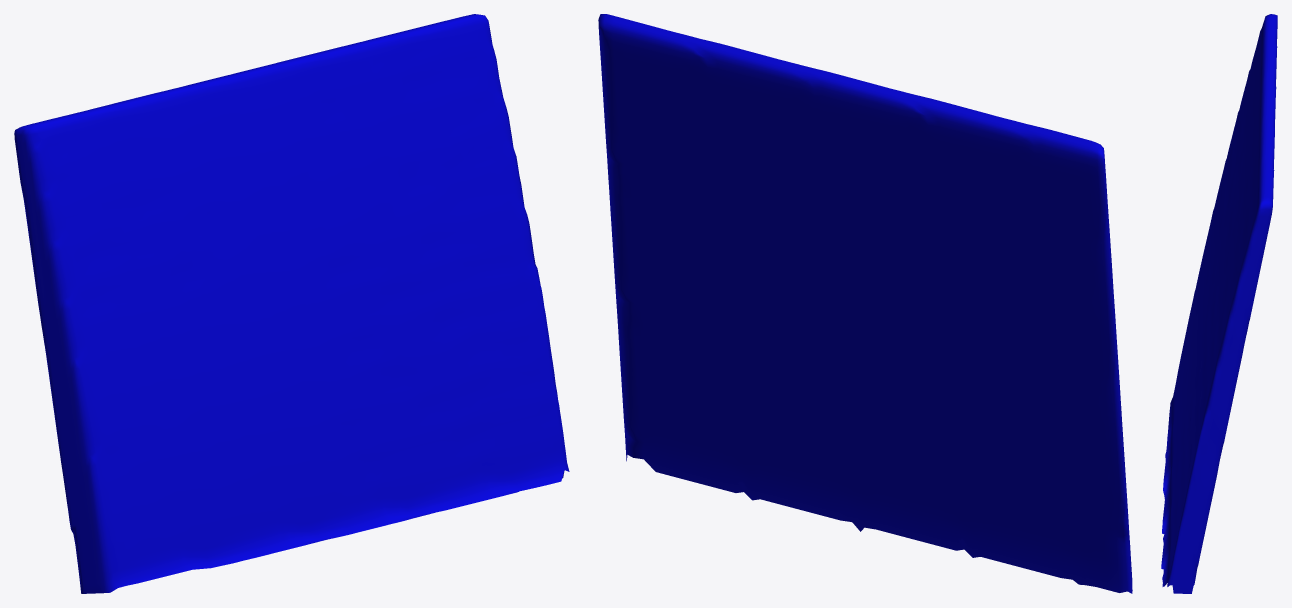
The picture shows the model from 3 angles, left to right: view 1: azimuth 30°, elevation 25°; view 2: azimuth 150°, elevation 25°; view 3: azimuth 270°, elevation 25°; orthographic projection. The views are drawn at different scales.
Size of the model in its own units: 0.8156 by 0.7103 by 0.1913.
